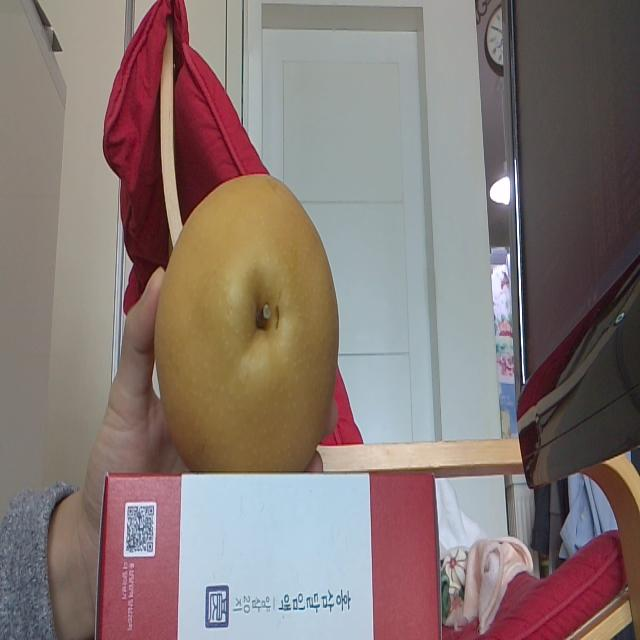pear: (152, 169, 344, 474)
